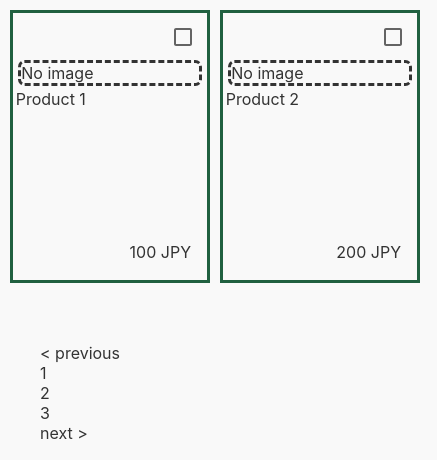
PaginateItems › itemsPerPage ごとにアイテムを分割表示し、ページ切り替えで次のアイテムを表示する
Expected: the text "Product 1" is shown, x1=16 y1=89 x2=86 y2=109
Expected: the text "Product 2" is shown, x1=226 y1=89 x2=299 y2=109
Click the button with aria-label "Next page": [64, 433] box x1=40 y1=423 x2=88 y2=443
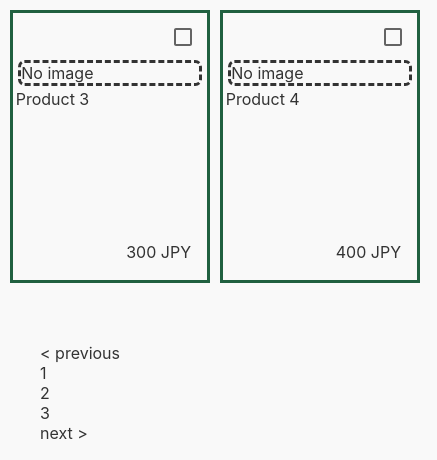
Expected: the text "Product 1" is gone
Expected: the text "Product 3" is shown, x1=16 y1=89 x2=89 y2=109
Expected: the text "Product 4" is shown, x1=226 y1=89 x2=300 y2=109
